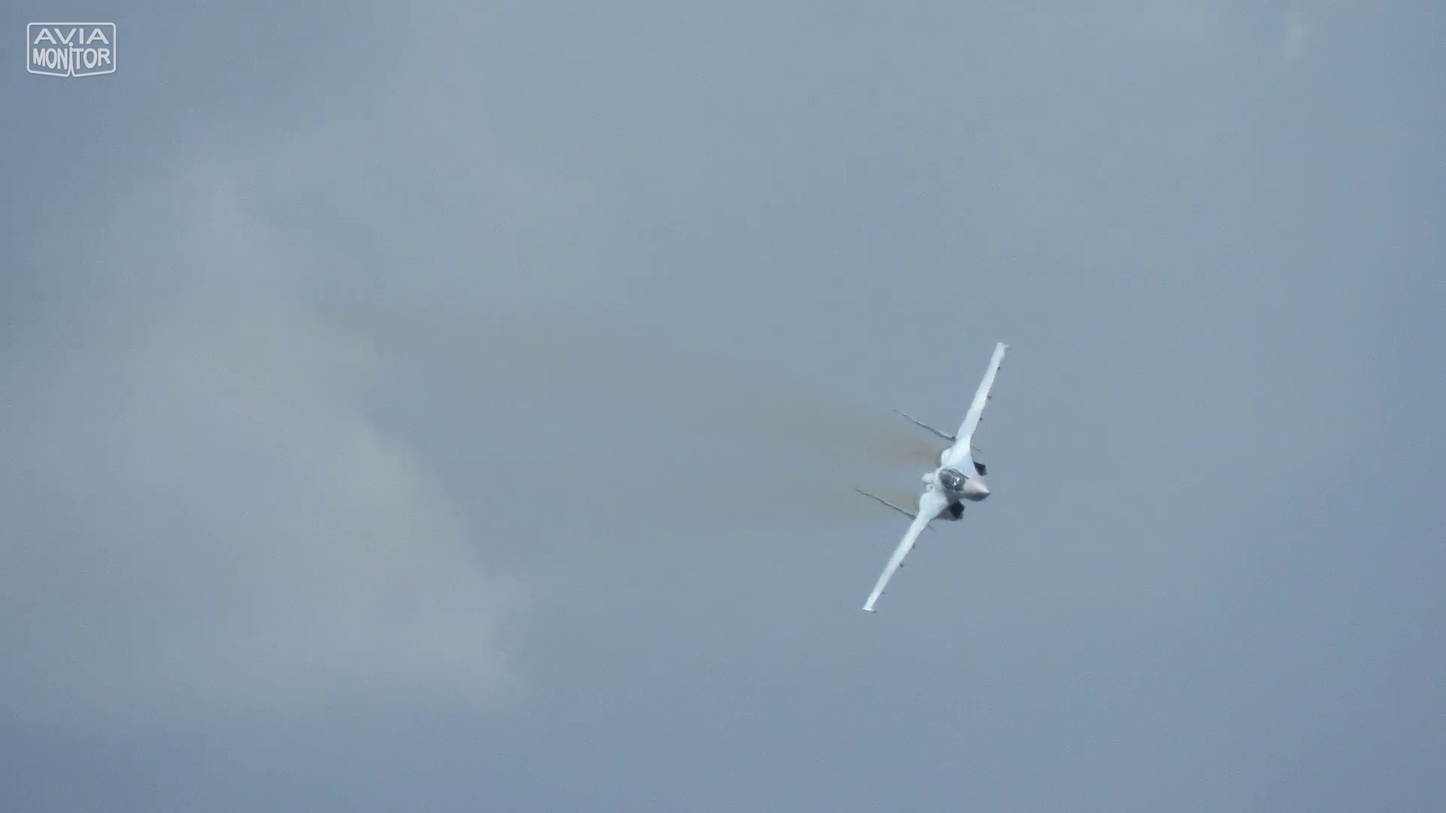Su35: (840, 328, 1027, 622)
